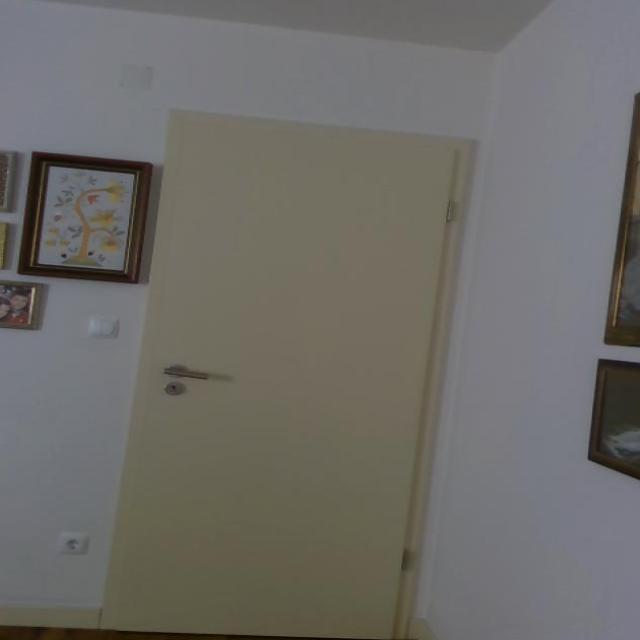door: (97, 106, 473, 638)
